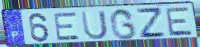6: (28, 12, 51, 43)
E: (165, 6, 194, 37), (53, 11, 82, 42)
G: (109, 8, 138, 41)
U: (79, 10, 109, 41)
Z: (135, 7, 168, 40)
